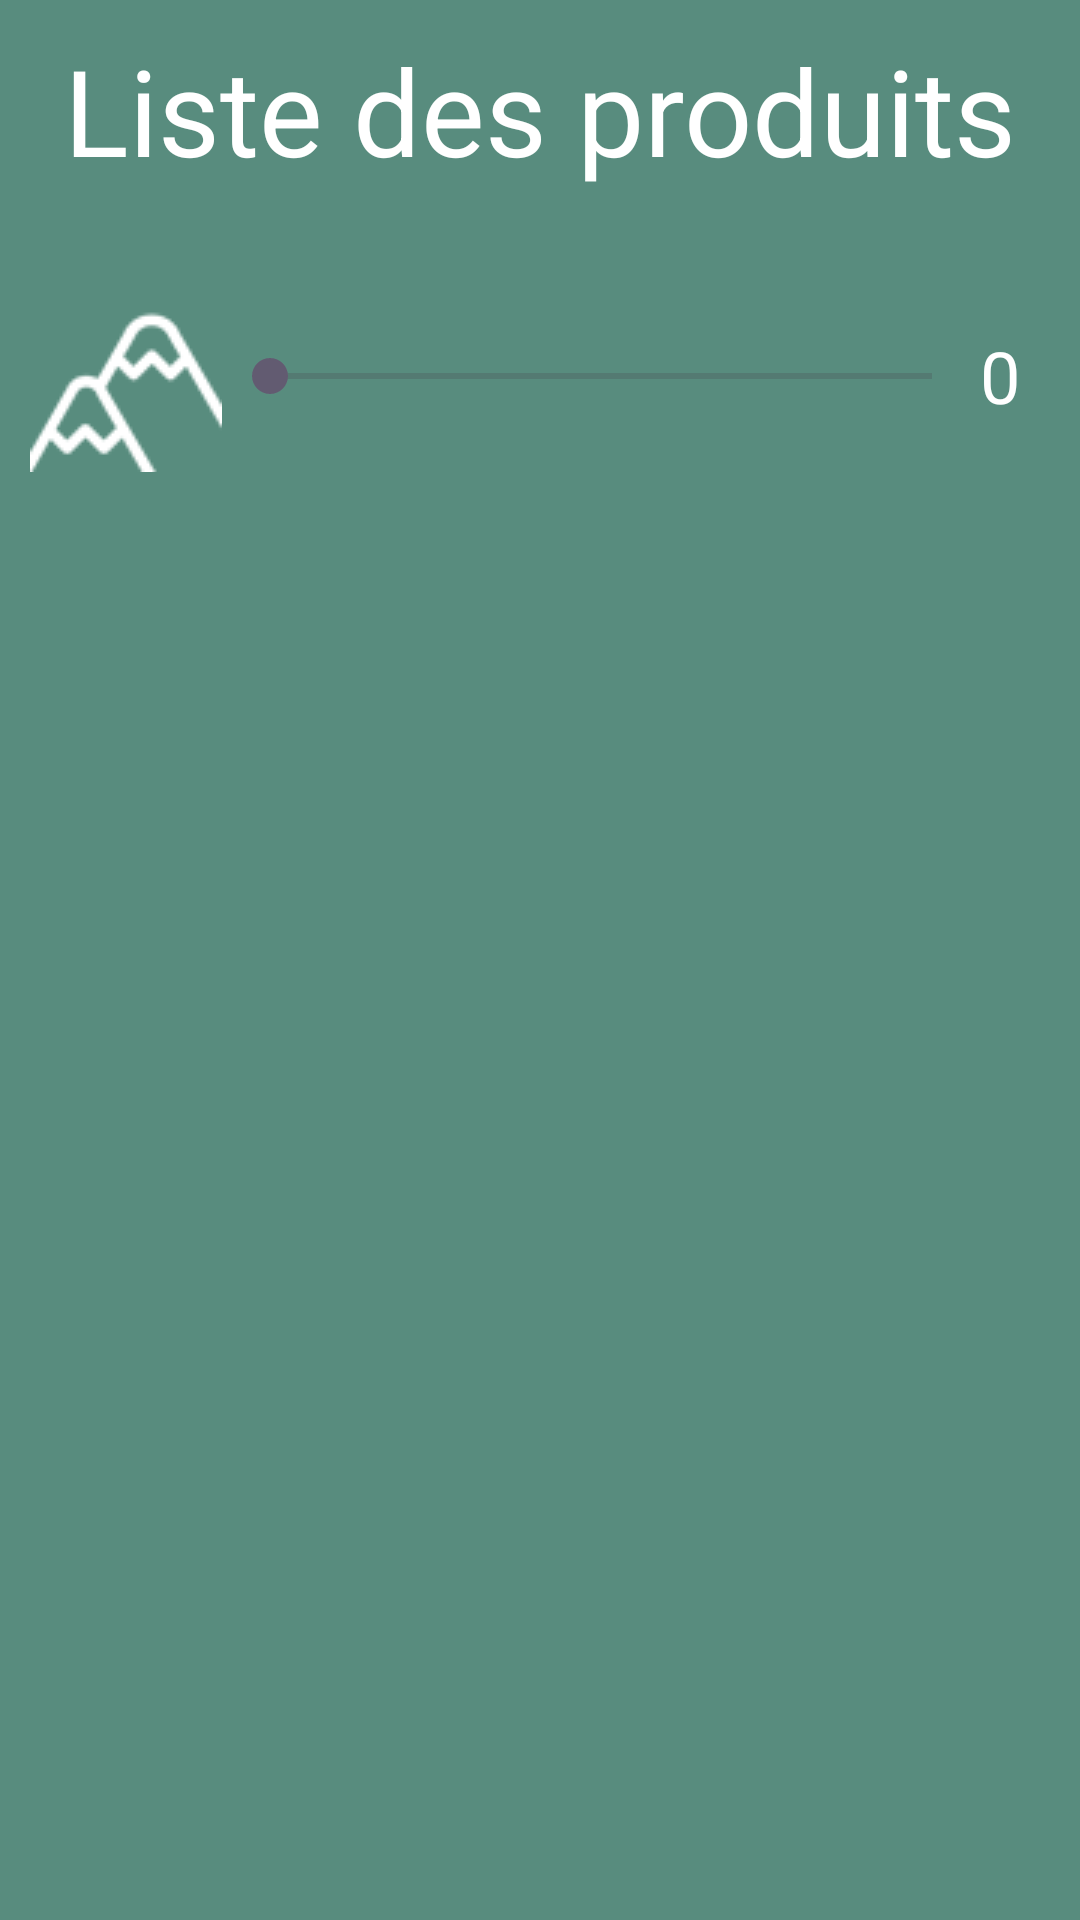

Icons on this 1080 x 1920 Android screen, each with the point to tap as (x=x, y=y):
mountain empty: (x=126, y=392)
